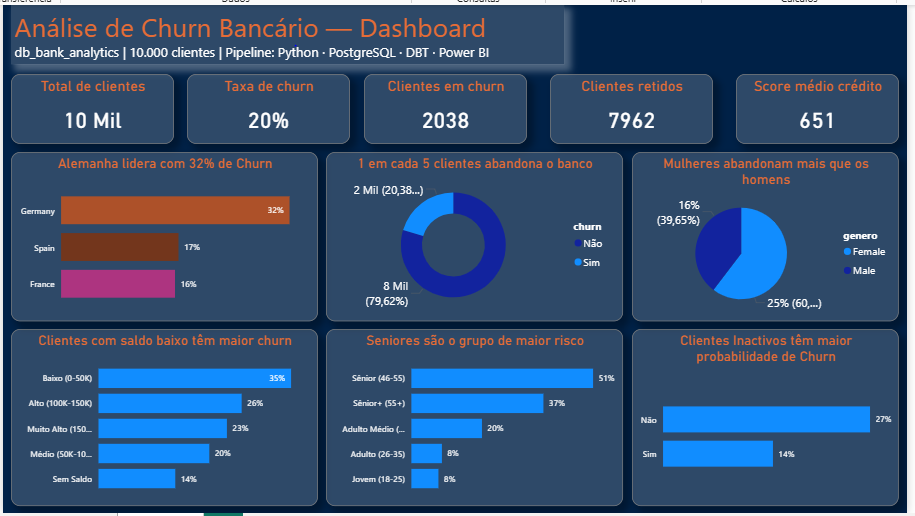

This screenshot's page, from the dashboard's own definition file:
{"tool":"powerbi","page":{"name":"Página 1","canvas":[1280,720],"ordinal":0},"visuals":[{"type":"textbox","box":[11.3,0,783.8,83.6],"z":0},{"type":"card","title":"Total de clientes","fields":{"Values":["Sum(public vw_churn_perfil.total_clientes)"]},"box":[11.3,97.8,231,99.2],"z":2000},{"type":"card","title":" Clientes em churn","fields":{"Values":["Sum(public vw_churn_perfil.total_churn)"]},"box":[511.7,97.8,231,99.2],"z":3000},{"type":"card","title":"Clientes retidos","fields":{"Values":["Sum(public vw_retencao_clientes.total_retidos)"]},"box":[775.3,97.8,231,99.2],"z":4000},{"type":"card","title":"Score médio crédito","fields":{"Values":["Avg(public vw_churn_por_pais.score_medio)"]},"box":[1038.9,97.8,231,99.2],"z":5000},{"type":"card","title":"Taxa de churn","fields":{"Values":["public vw_visao_geral.Taxa Churn %"]},"box":[261.5,97.8,231,99.2],"z":6000},{"type":"clusteredBarChart","title":"Alemanha lidera com 32% de Churn","fields":{"Category":["public vw_visao_geral.pais"],"Y":["public vw_visao_geral.Taxa Churn %"]},"box":[11.3,208.3,435.1,239.5],"z":7000},{"type":"clusteredBarChart","title":"Clientes com saldo baixo têm maior churn","fields":{"Y":["public vw_visao_geral.Taxa Churn %"],"Category":["public vw_visao_geral.faixa_saldo"]},"box":[11.3,459.2,435.1,250.9],"z":8000},{"type":"donutChart","title":"1 em cada 5 clientes abandona o banco","fields":{"Category":["public vw_churn_perfil.churn"],"Y":["Sum(public vw_churn_perfil.total_clientes)"]},"box":[457.8,208.3,420.9,239.5],"z":9000},{"type":"pieChart","title":"Mulheres abandonam mais que os homens","fields":{"Category":["public vw_visao_geral.genero"],"Y":["public vw_visao_geral.Taxa Churn Contexto %"]},"box":[891.5,208.3,378.4,239.5],"z":10000},{"type":"clusteredBarChart","title":"Seniores são o grupo de maior risco","fields":{"Y":["public vw_visao_geral.Taxa Churn Contexto %"],"Category":["public vw_visao_geral.faixa_etaria"]},"box":[457.8,459.2,420.9,250.9],"z":11000},{"type":"clusteredBarChart","title":"Clientes Inactivos têm maior probabilidade de Churn","fields":{"Category":["public vw_visao_geral.membro_activo"],"Y":["public vw_visao_geral.Taxa Churn Contexto %"]},"box":[891.5,459.2,378.4,250.9],"z":12000}]}

Visuals, with their boxes on the page's 1280x720 design canvas (x1, y1, x2, y2). These are canvas units, not pixel positions in the 915x516 screenshot, which may show the page scaled, cropped or inside an application window:
textbox: locate(11, 0, 795, 84)
"Total de clientes" card: locate(11, 98, 242, 197)
" Clientes em churn" card: locate(512, 98, 743, 197)
"Clientes retidos" card: locate(775, 98, 1006, 197)
"Score médio crédito" card: locate(1039, 98, 1270, 197)
"Taxa de churn" card: locate(262, 98, 492, 197)
"Alemanha lidera com 32% de Churn" clusteredBarChart: locate(11, 208, 446, 448)
"Clientes com saldo baixo têm maior churn" clusteredBarChart: locate(11, 459, 446, 710)
"1 em cada 5 clientes abandona o banco" donutChart: locate(458, 208, 879, 448)
"Mulheres abandonam mais que os homens" pieChart: locate(892, 208, 1270, 448)
"Seniores são o grupo de maior risco" clusteredBarChart: locate(458, 459, 879, 710)
"Clientes Inactivos têm maior probabilidade de Churn" clusteredBarChart: locate(892, 459, 1270, 710)
